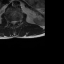CCS_normal: (12, 19, 14, 27)
LFS_stenosis: (16, 18, 19, 24)
LLS_normal: (14, 19, 17, 25)
RFS_stenosis: (8, 19, 11, 25)
RLS_normal: (11, 19, 12, 25)
